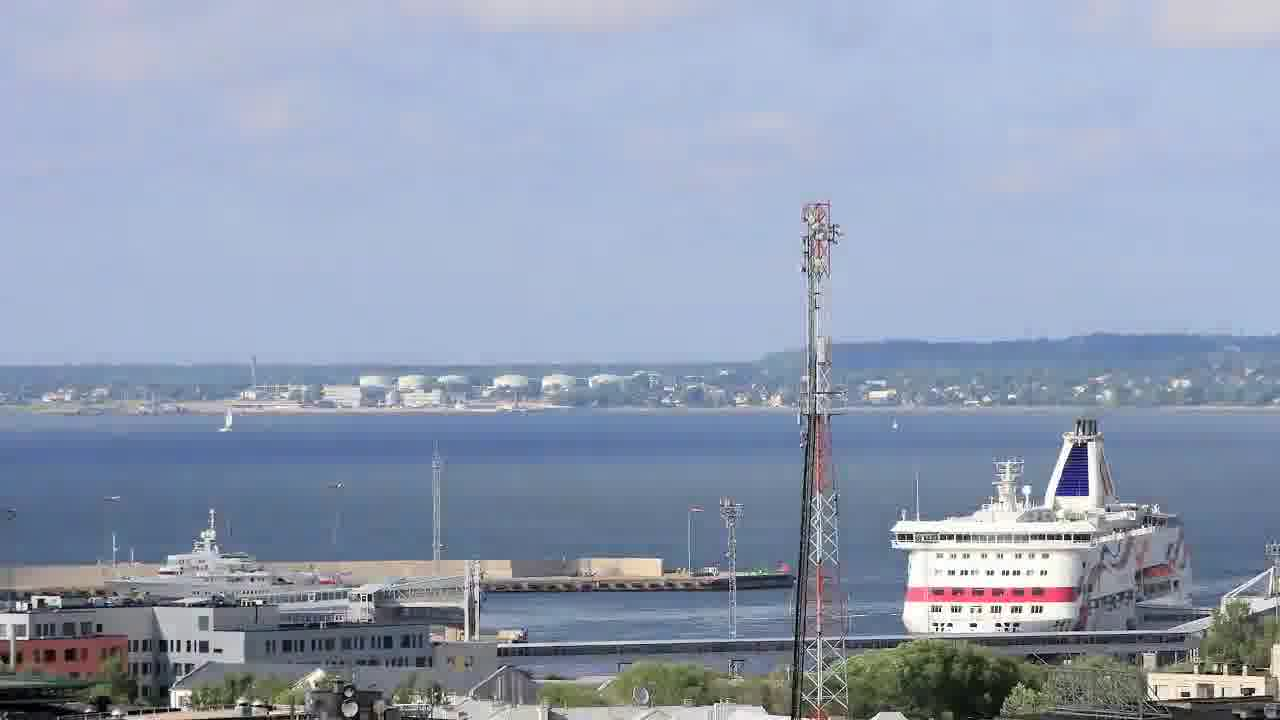type-2: (209, 398, 255, 451)
type-3: (868, 415, 1225, 638), (89, 518, 402, 620)
